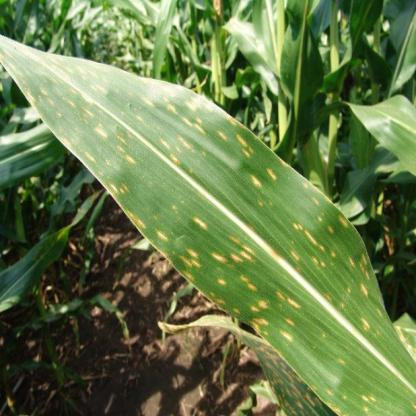corn leaf blight: (5, 33, 411, 414)
